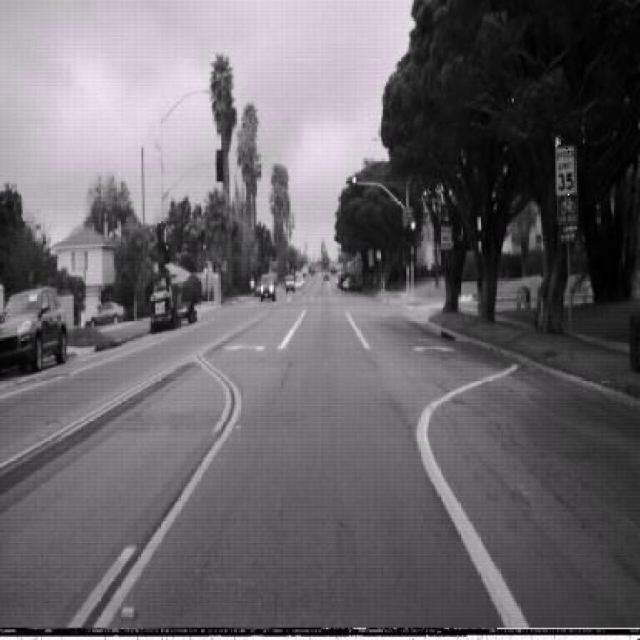speedLimit35: (557, 144, 578, 198)
